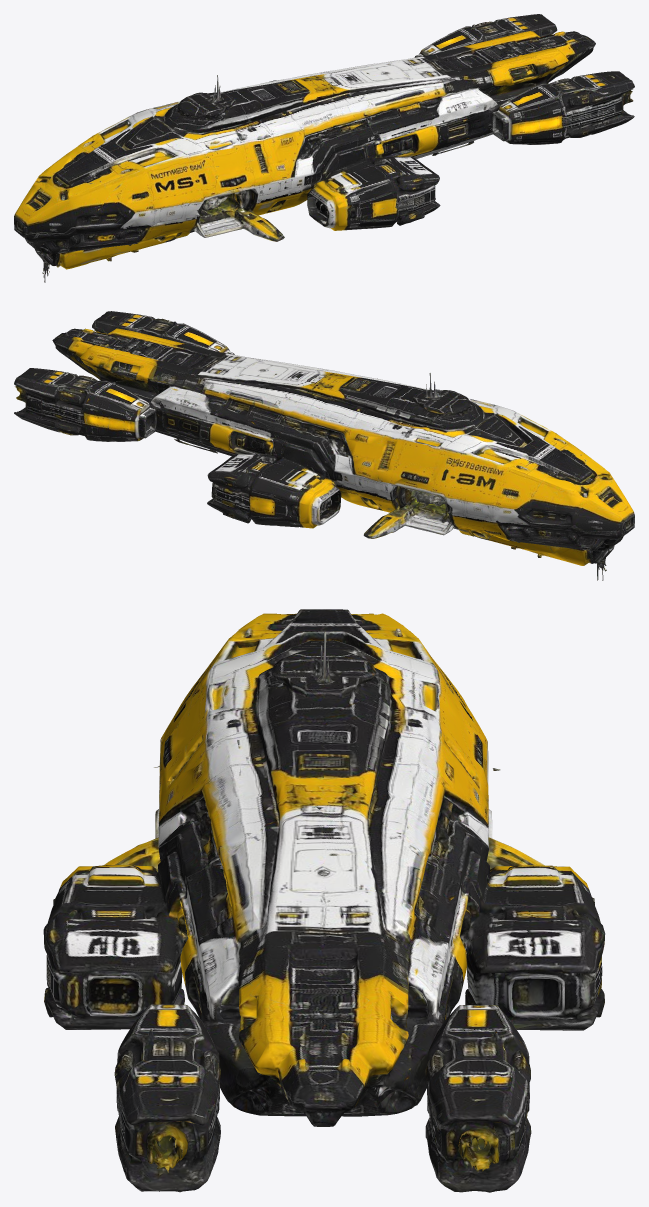
File: mothership.glb
3 renders of one model, top to bottom at view 1: azimuth 30°, elevation 25°; view 2: azimuth 150°, elevation 25°; view 3: azimuth 270°, elevation 25°, orthographic. The views are drawn at different scales.
Bounding box in the file's own units: 1.89 × 0.5203 × 0.7981.
1 material, 1 textured.
